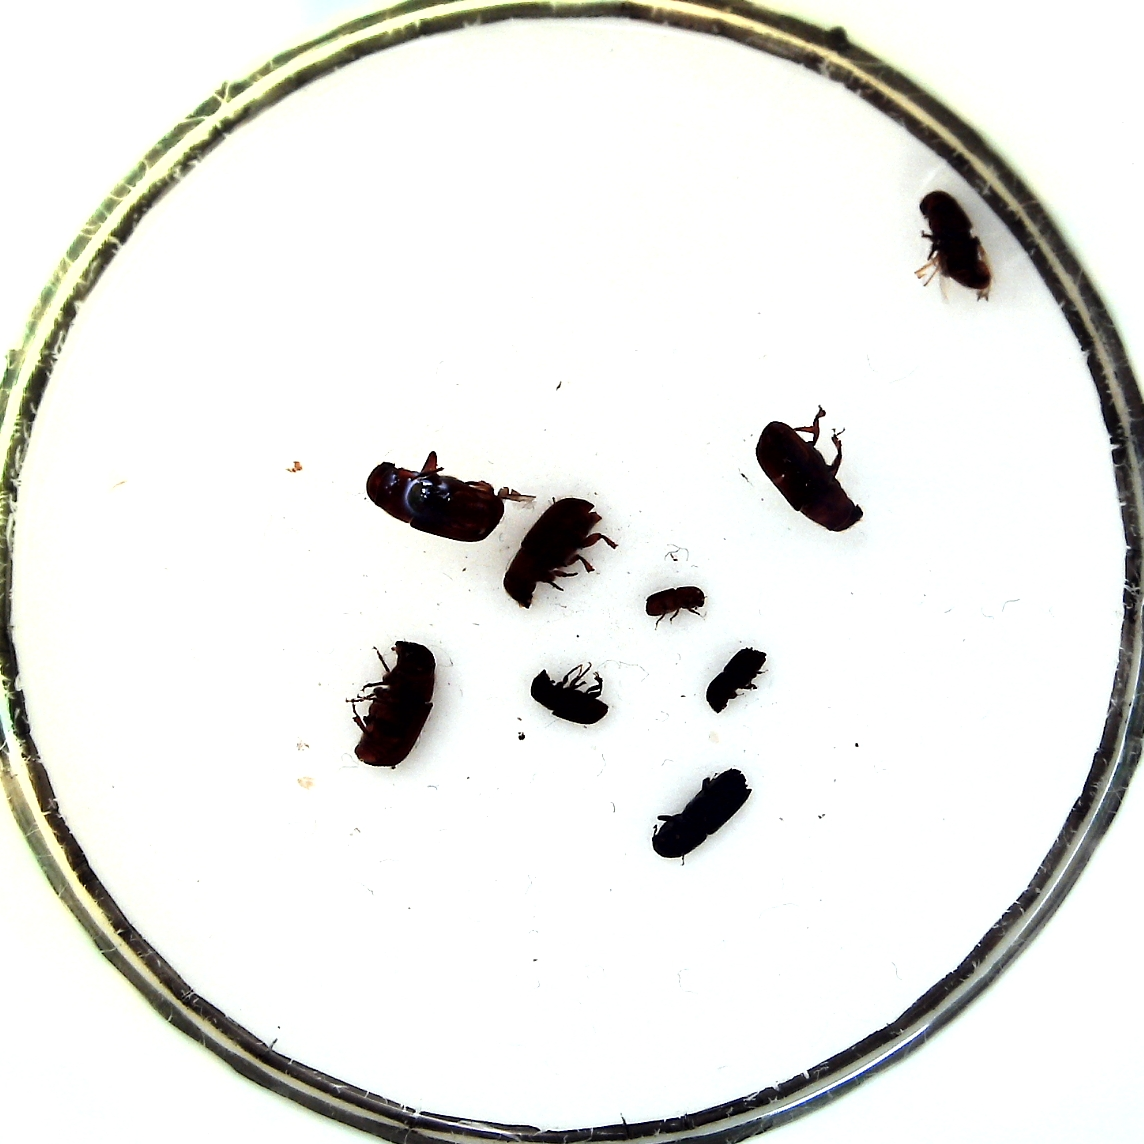Boerner: (645, 763, 755, 859)
Leconte: (755, 417, 868, 533), (365, 456, 509, 543), (348, 638, 439, 771), (501, 499, 606, 610), (916, 186, 993, 299)
Linnaeus: (701, 643, 771, 712)
acuminatus: (640, 584, 709, 620)
armandi: (526, 661, 609, 725)
